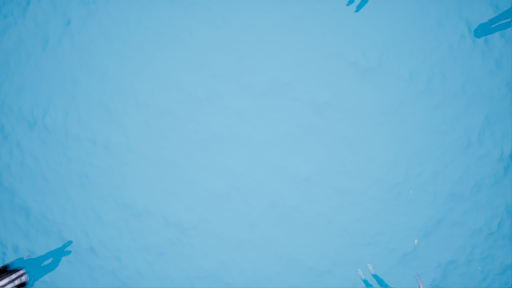person: (1, 237, 80, 288)
